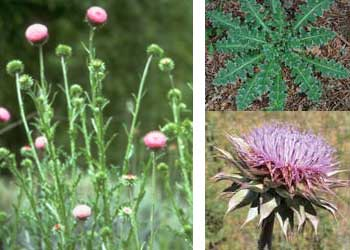thistle: (222, 126, 345, 238), (144, 129, 170, 157), (23, 21, 50, 47), (82, 6, 108, 33)
